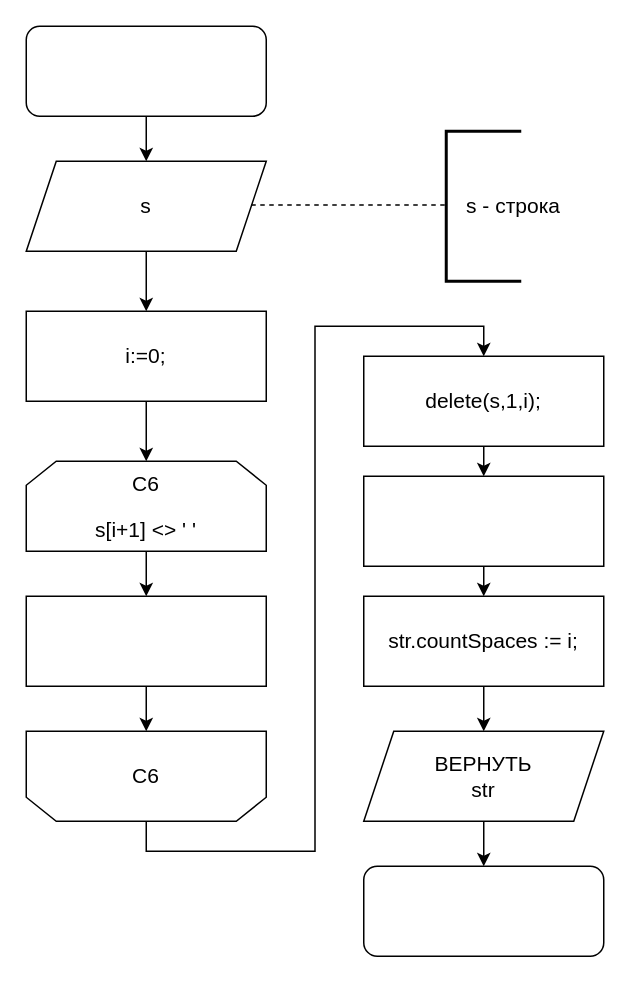
This 630x983 diagram has some shape labels left out. Here are the shapes that lost their labels. From the top down, the box of each, then its label:
(25, 25, 266, 116): ChangeCommand НАЧАЛО
(362, 475, 604, 566): str.text := s;
(25, 595, 266, 686): i:=i+1;
(362, 865, 604, 956): КОНЕЦ ChangeCommand
